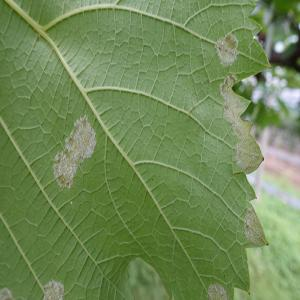Folha: (0, 0, 270, 299)
Fungo: (218, 73, 264, 174), (52, 114, 96, 189), (215, 32, 239, 68), (42, 279, 64, 299), (206, 282, 228, 299), (0, 286, 12, 299)
